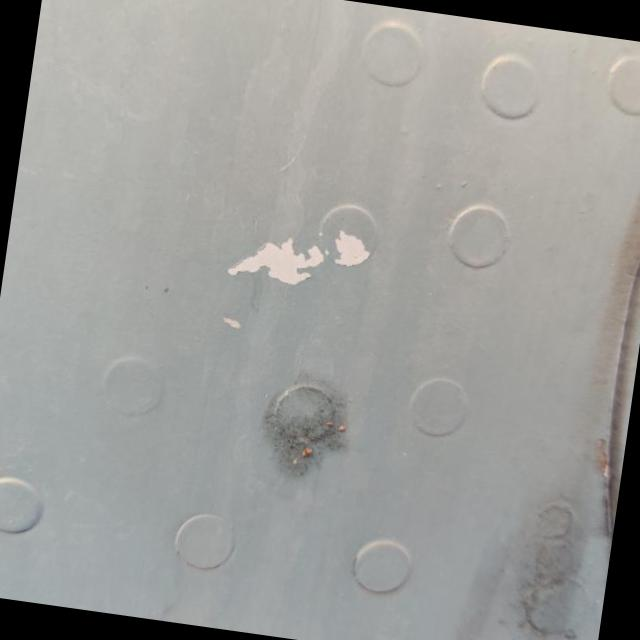Paint-off: (224, 220, 378, 289)
